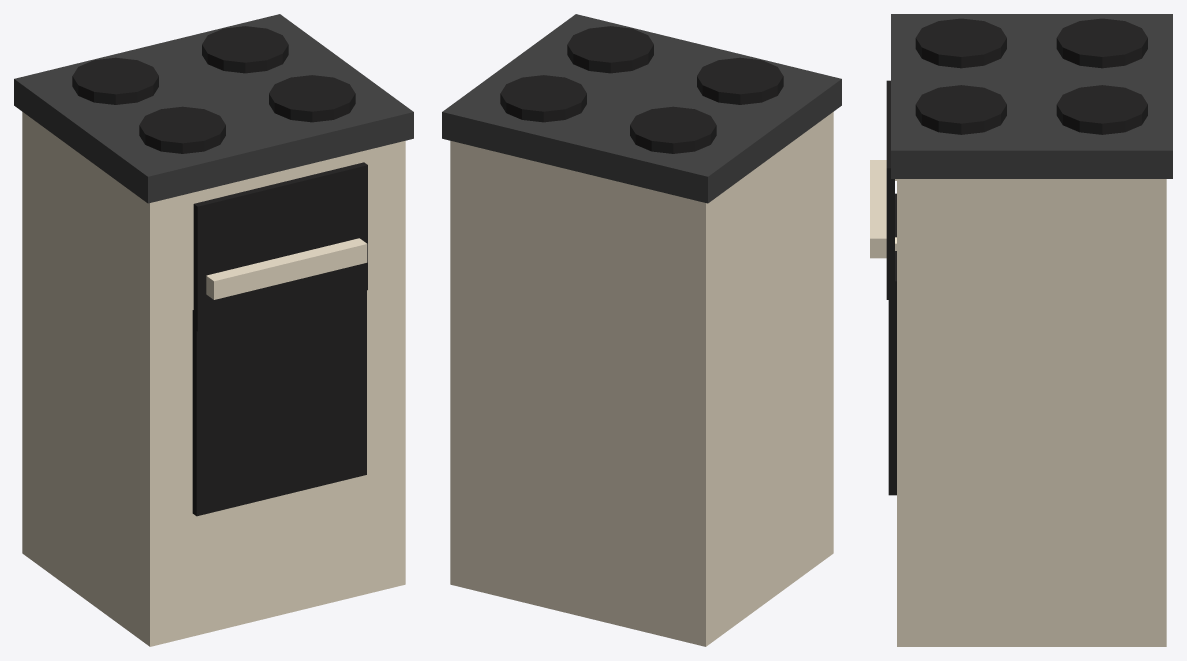
3 renders of one model, left to right at view 1: azimuth 30°, elevation 25°; view 2: azimuth 150°, elevation 25°; view 3: azimuth 270°, elevation 25°, orthographic. The views are drawn at different scales.
Parts seen in each view (by area): view 1: Stove, Hob, Oven window, Upper oven window, Door handle, Burner.003, Burner.002, Burner, Burner.001; view 2: Stove, Hob, Burner.002, Burner.003, Burner.001, Burner; view 3: Stove, Hob, Burner.002, Burner.003, Burner, Burner.001, Oven window, Door handle, Upper oven window.
Boxes of the visible parts, x1,y1,x2,y2 form: Stove: (22,112,405,646); Hob: (14,14,413,203); Oven window: (192,290,366,516); Upper oven window: (193,162,367,331); Door handle: (206,238,367,299); Burner.003: (202,26,288,73); Burner.002: (269,75,355,122); Burner: (139,106,225,153); Burner.001: (72,57,158,104); Stove: (450,112,833,646); Hob: (442,14,841,203); Burner.002: (567,26,653,73); Burner.003: (500,75,586,122); Burner.001: (630,106,716,153); Burner: (697,57,783,104); Stove: (897,179,1166,646); Hob: (891,14,1172,178); Burner.002: (915,85,1006,134); Burner.003: (1056,85,1147,134); Burner: (915,18,1006,68); Burner.001: (1056,18,1147,68); Oven window: (888,193,896,495); Door handle: (870,160,886,258); Upper oven window: (886,80,894,299).
Size of the model in its own units: 0.78 by 1.36 by 0.73.
1 material, 1 textured.
